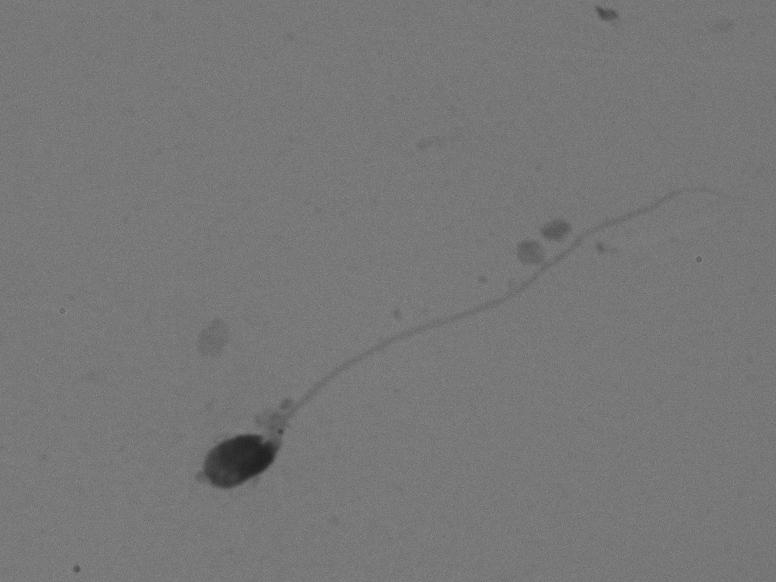Abnormal: (170, 157, 756, 494)
